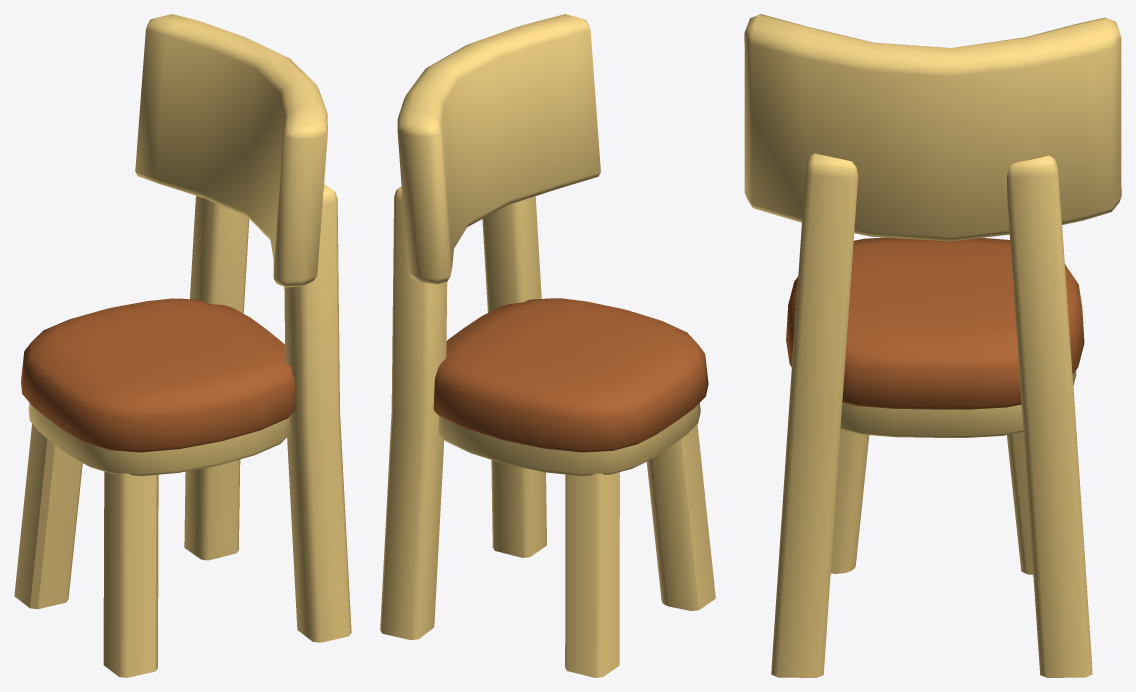
The model's file is L_chair.FBX.
3 views of the same model, side by side, from view 1: azimuth 30°, elevation 25°; view 2: azimuth 150°, elevation 25°; view 3: azimuth 270°, elevation 25° (orthographic). The views are drawn at different scales.
Visible parts, largest first — view 1: L_chair; view 2: L_chair; view 3: L_chair.
Part boxes in pixels (x1,y1,x2,y2): L_chair: (14, 14, 351, 677); L_chair: (380, 14, 715, 677); L_chair: (744, 14, 1121, 677).
Bounding box in the file's own units: 72.33 × 146 × 79.58.
